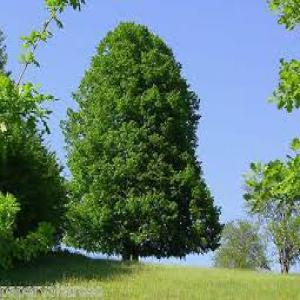Tree: (61, 20, 225, 263)
